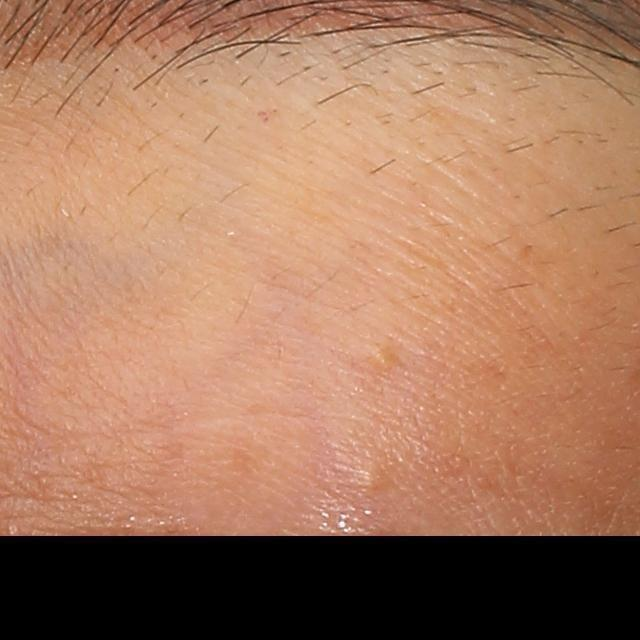comedo: (356, 461, 388, 495)
